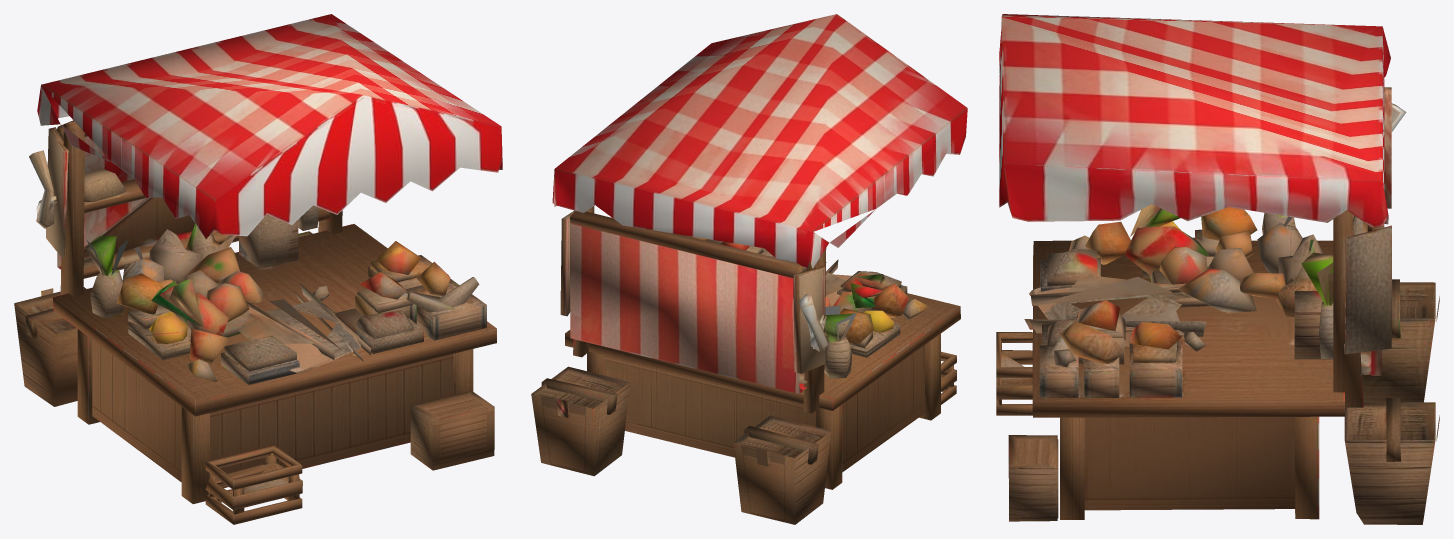
File: stall.glb
3 views of the same model, side by side, from view 1: azimuth 30°, elevation 25°; view 2: azimuth 150°, elevation 25°; view 3: azimuth 270°, elevation 25° (orthographic). The views are drawn at different scales.
Size of the model in its own units: 2.42 by 3 by 2.78.
Materials: 1 (1 with a texture image).
